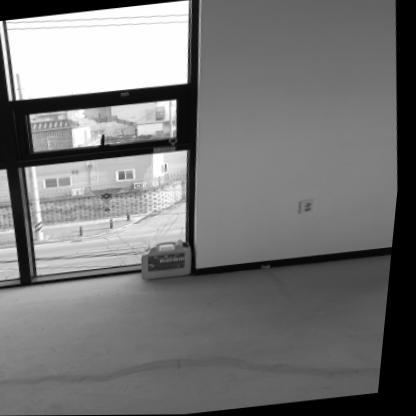DDL: (145, 239, 197, 279)
